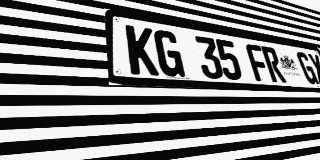3: (194, 35, 225, 79)
5: (215, 39, 244, 80)
F: (245, 43, 272, 82)
G: (153, 29, 185, 77), (295, 51, 319, 84)
K: (125, 25, 159, 76)
R: (261, 46, 287, 83)
X: (307, 53, 320, 85)
